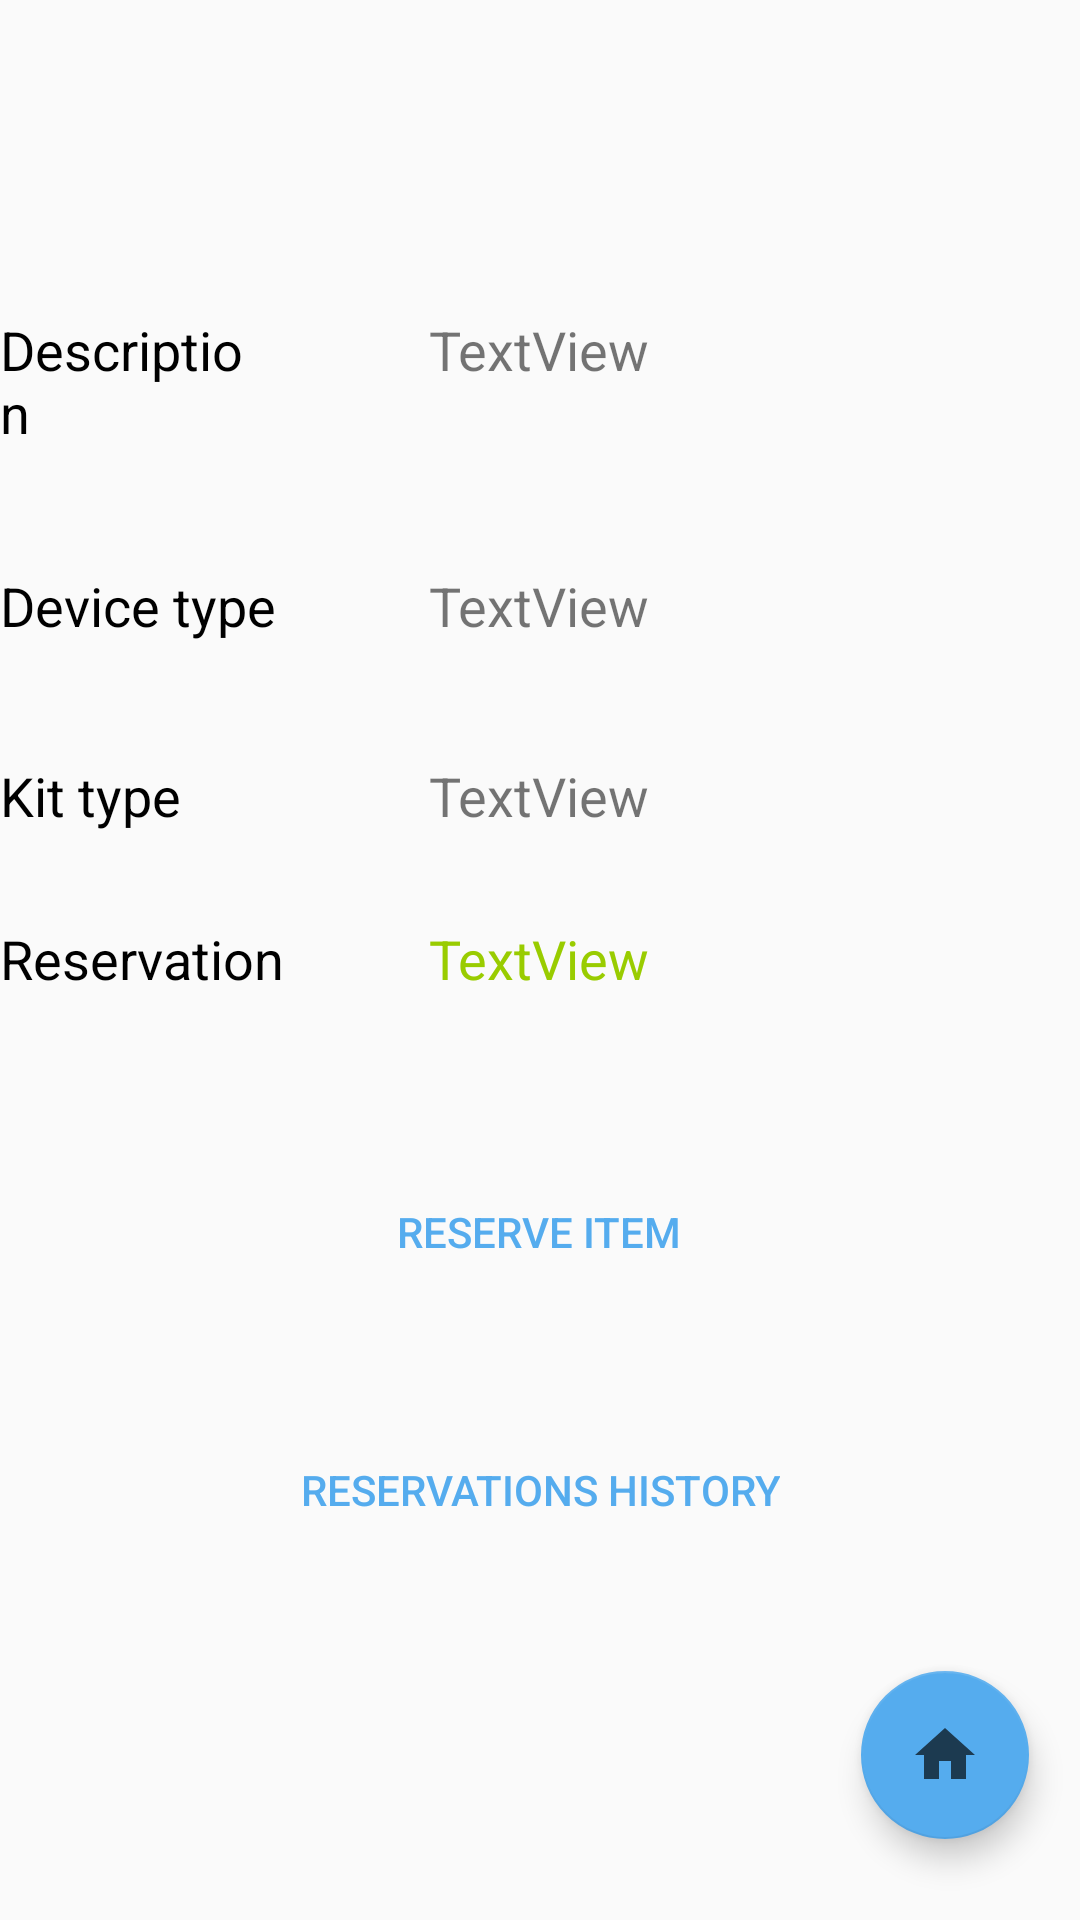

Screen size 1080*1920. Icon name, then its box in pixels as (x1, y1, x2, y2):
home: (861, 1671, 1029, 1839)
